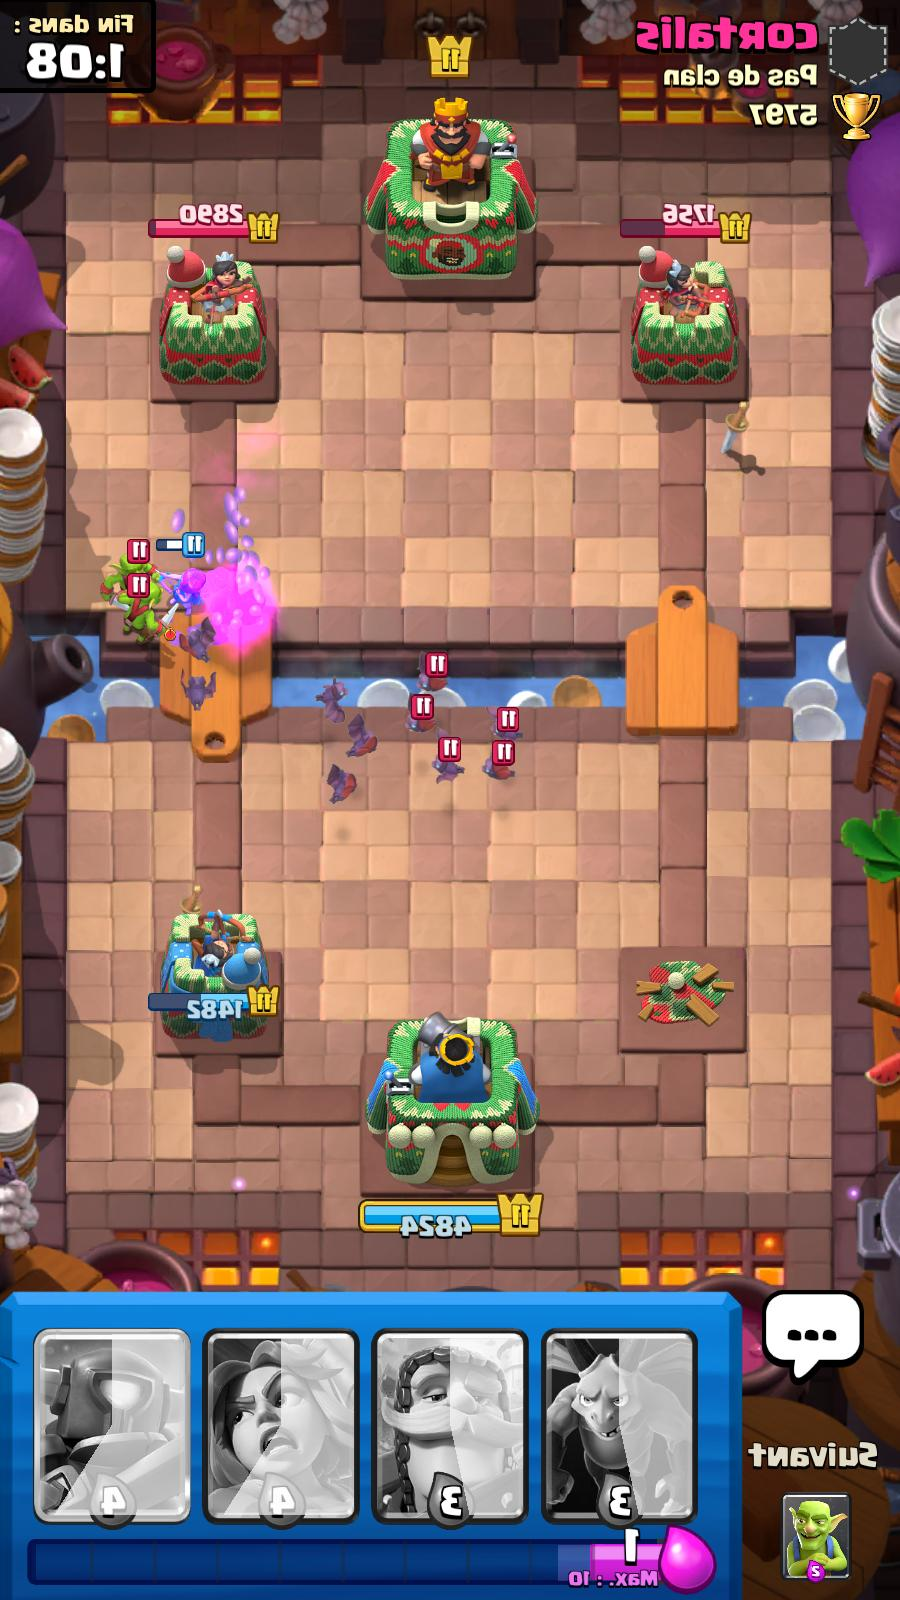archere: (152, 532, 205, 621)
bat: (312, 671, 353, 727), (411, 645, 452, 699), (173, 667, 220, 712), (342, 711, 380, 765), (433, 740, 470, 791), (177, 618, 218, 665), (323, 763, 360, 811), (399, 697, 435, 745), (491, 704, 521, 756), (481, 748, 523, 784)
gobelin: (98, 532, 167, 612), (116, 573, 169, 647)
